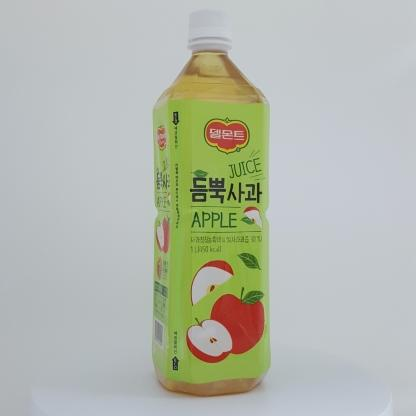----------1L: (152, 9, 270, 396)
